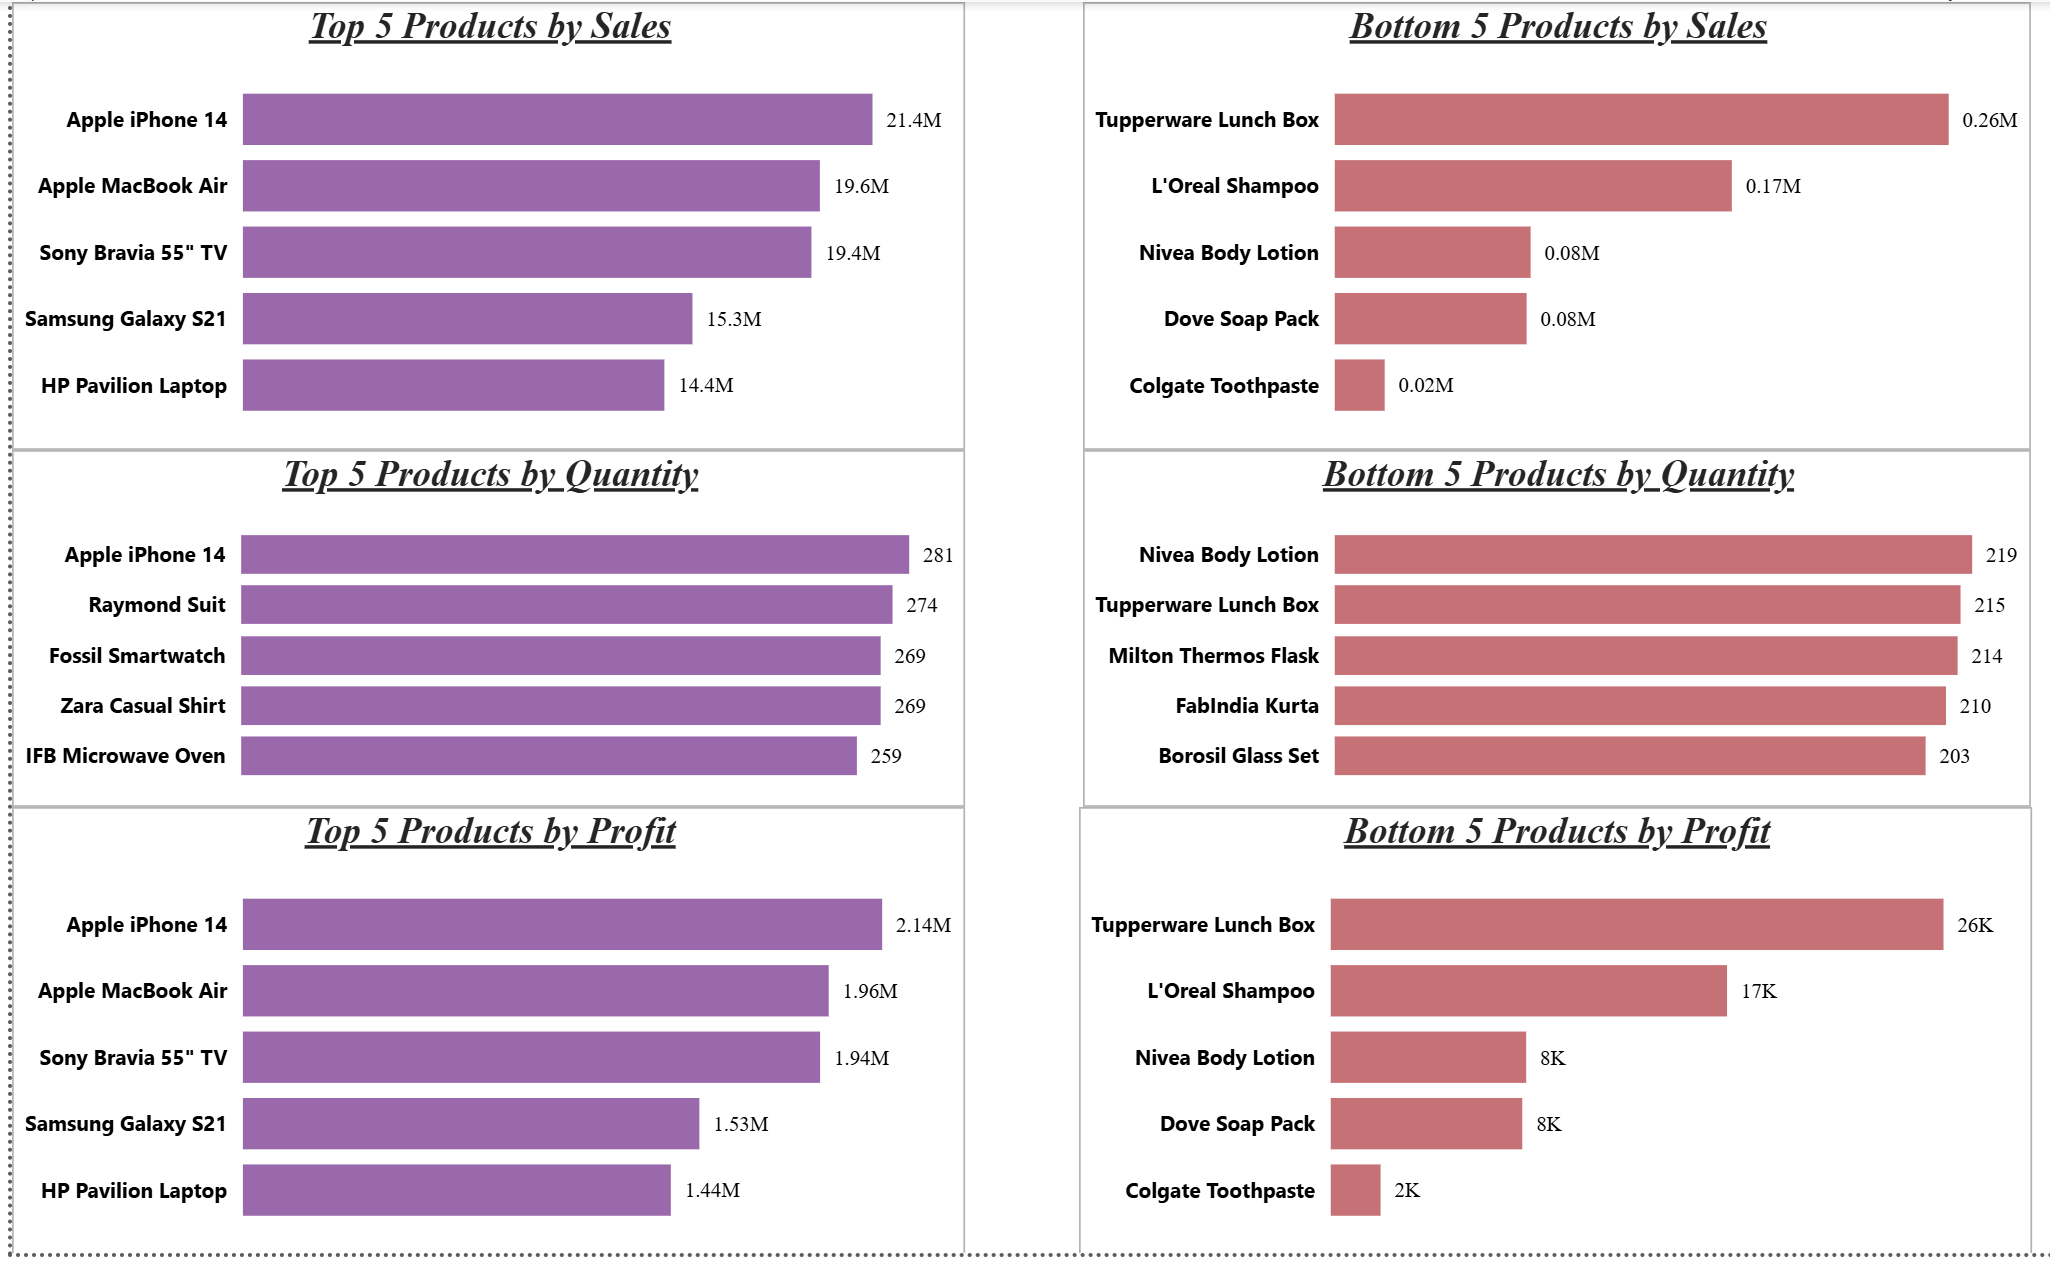

This screenshot's page, from the dashboard's own definition file:
{"tool":"powerbi","page":{"name":"Top Bottom 5 analysis","canvas":[1280,720],"ordinal":1},"visuals":[{"type":"barChart","title":"Top 5 Products by Sales","fields":{"Category":["Dim Product.Product Name"],"Y":["Sum(Fact Table.Net Sales  )"]},"box":[0,0,548.8,257.8],"z":0},{"type":"barChart","title":"Bottom 5 Products by Sales","fields":{"Category":["Dim Product.Product Name"],"Y":["Sum(Fact Table.Net Sales  )"]},"box":[616.6,0,545.8,257.8],"z":1000},{"type":"barChart","title":"Top 5 Products by Quantity","fields":{"Category":["Dim Product.Product Name"],"Y":["Sum(Fact Table.Units Sold)"]},"box":[0,257.8,548.8,205],"z":2000},{"type":"barChart","title":"Bottom 5 Products by Quantity","fields":{"Category":["Dim Product.Product Name"],"Y":["Sum(Fact Table.Units Sold)"]},"box":[616.6,257.8,545.8,205],"z":3000},{"type":"barChart","title":"Top 5 Products by Profit","fields":{"Category":["Dim Product.Product Name"],"Y":["Sum(Fact Table.Profit)"]},"box":[0,462.9,548.8,257.8],"z":4000},{"type":"barChart","title":"Bottom 5 Products by Profit","fields":{"Category":["Dim Product.Product Name"],"Y":["Sum(Fact Table.Profit)"]},"box":[613.6,462.9,548.8,257.8],"z":5000}]}

Visuals, with their boxes on the page's 1280x720 design canvas (x1, y1, x2, y2). These are canvas units, not pixel positions in the 2050x1266 screenshot, which may show the page scaled, cropped or inside an application window:
"Top 5 Products by Sales" barChart: 0:0:549:258
"Bottom 5 Products by Sales" barChart: 617:0:1162:258
"Top 5 Products by Quantity" barChart: 0:258:549:463
"Bottom 5 Products by Quantity" barChart: 617:258:1162:463
"Top 5 Products by Profit" barChart: 0:463:549:721
"Bottom 5 Products by Profit" barChart: 614:463:1162:721
